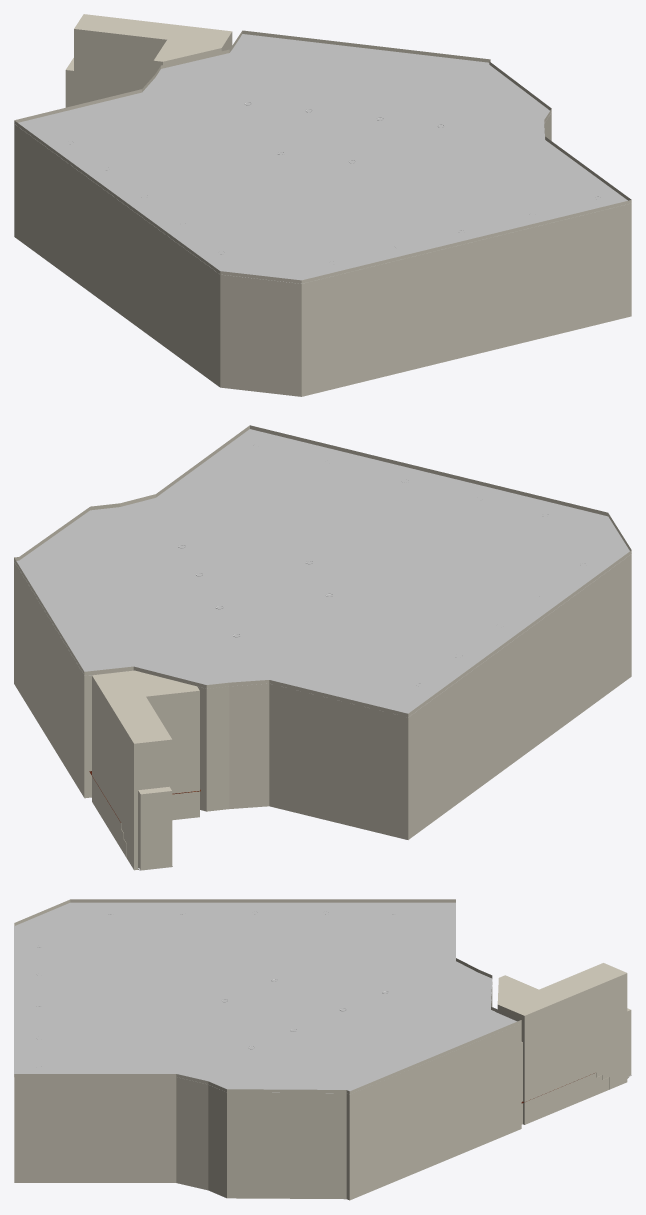
File: Default AAM.fbx
3 renders of one model, top to bottom at view 1: azimuth 30°, elevation 25°; view 2: azimuth 150°, elevation 25°; view 3: azimuth 270°, elevation 25°, orthographic. The views are drawn at different scales.
Visible parts, largest first — view 1: Circle.043; view 2: Circle.043; view 3: Circle.043.
Boxes of the visible parts, box(x1,y1,x2,y2) form: Circle.043: box(14, 14, 631, 396); Circle.043: box(14, 425, 631, 870); Circle.043: box(14, 899, 631, 1200).
Bounding box in the file's own units: 934 × 248 × 1270.
